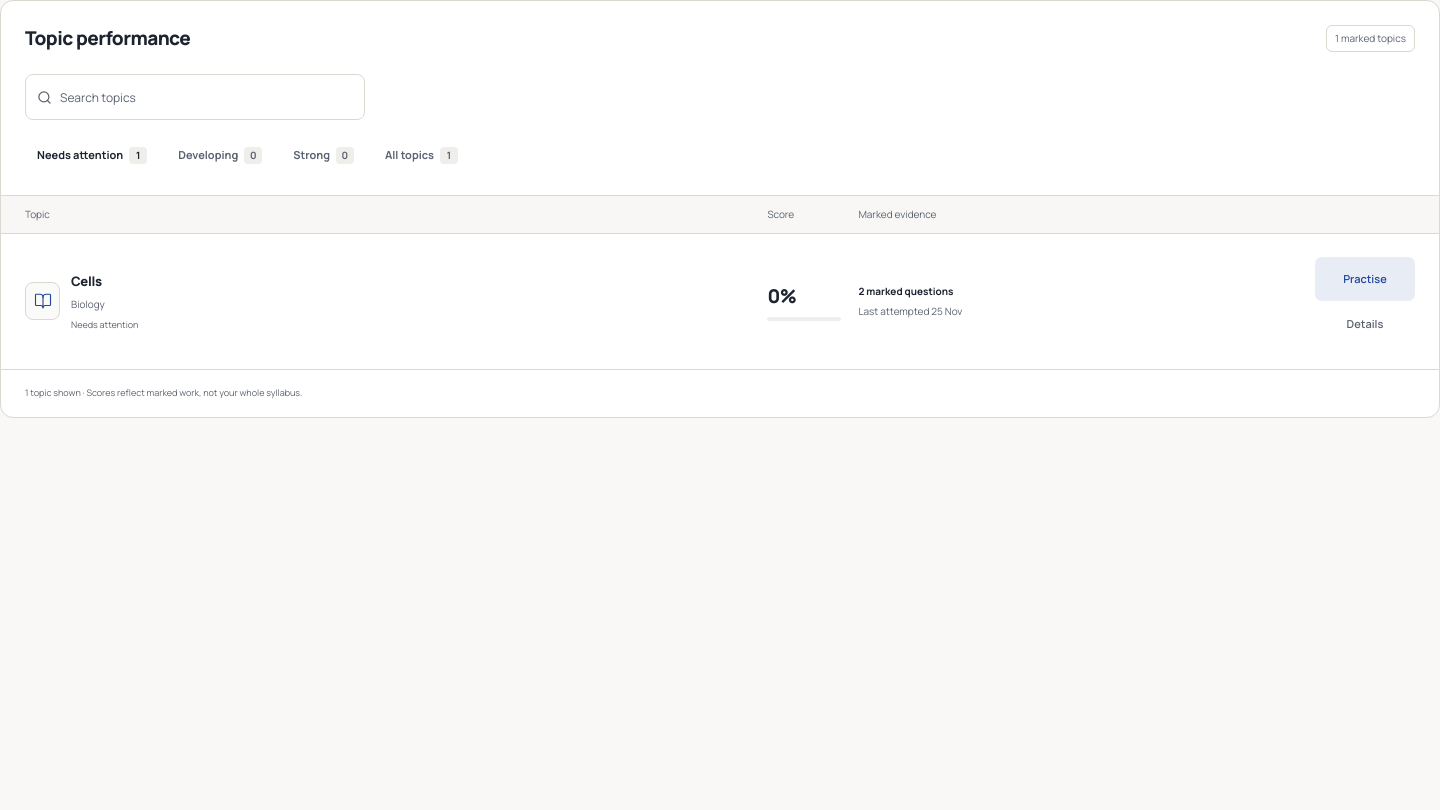
topic details distinguish missing practice from a true zero and keep targeted practice scoped
This screenshot has width=1440, height=810.
Click the button with aria-label "Details for Cells": click(1365, 324) [1315, 302, 1415, 346]
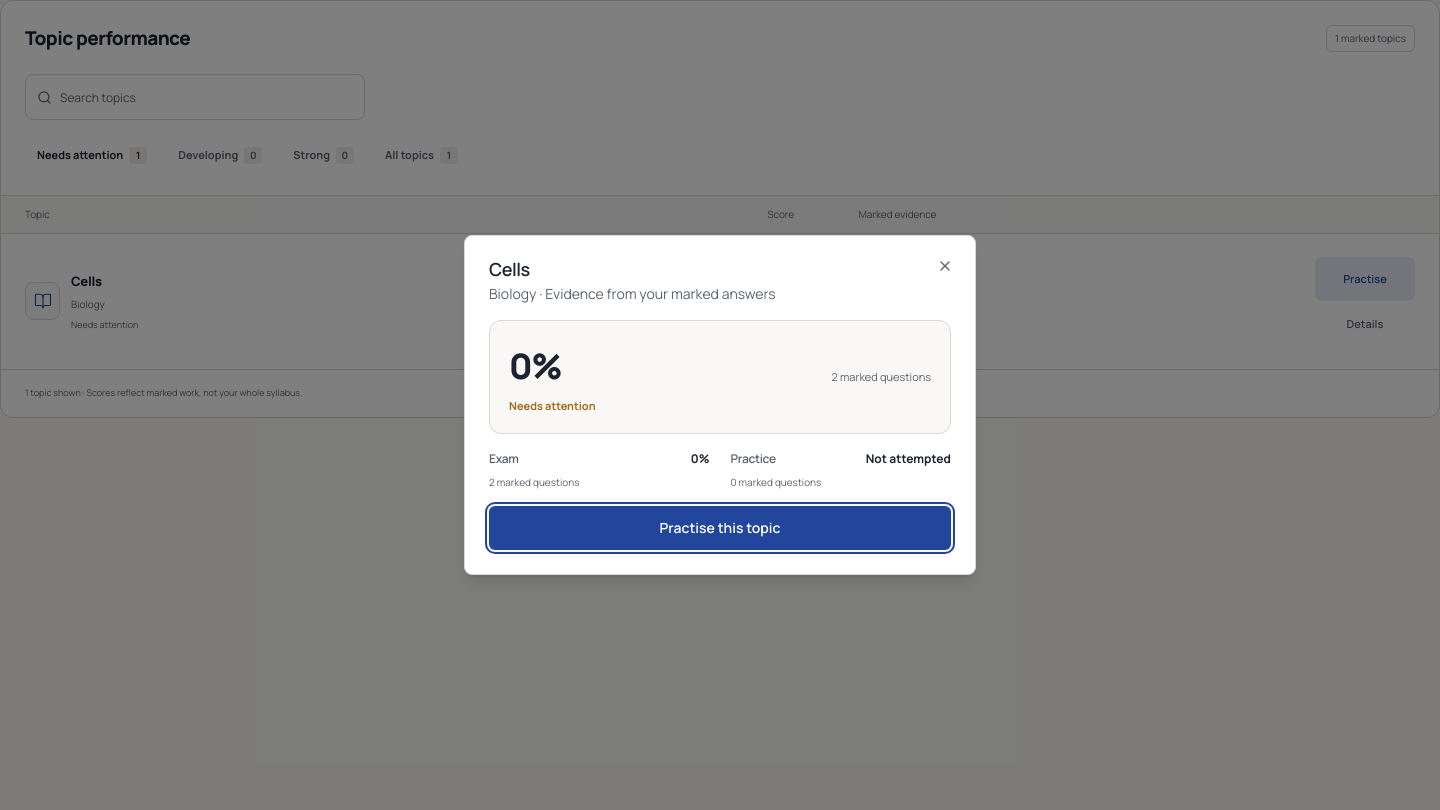
Check: the text "Not attempted" is shown, box [866, 450, 951, 468]
Check: the 1st text "0%" is shown, box [509, 342, 561, 390]
Click the button "Practise this topic": click(720, 528) [489, 506, 951, 550]
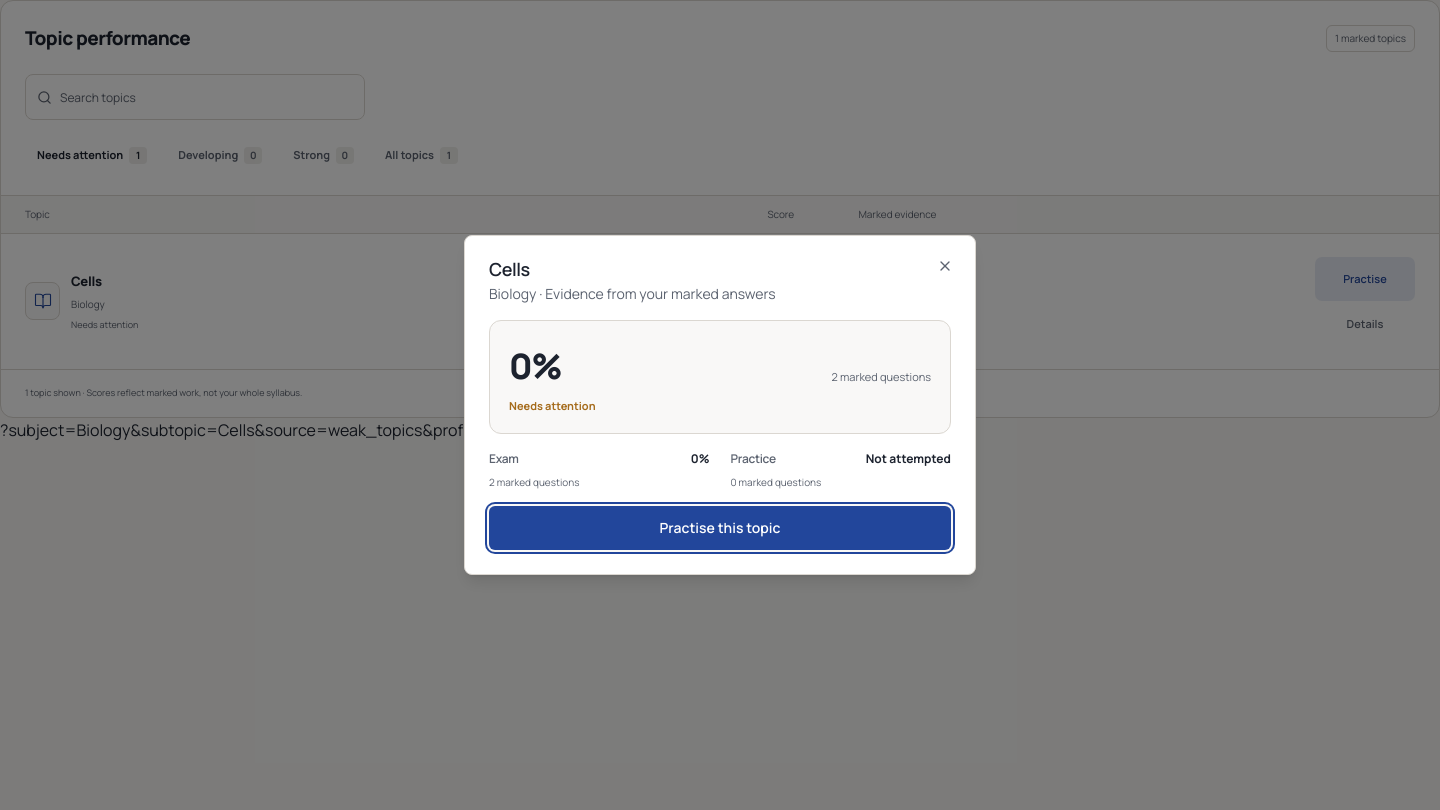
Check: the text named "Destination" shows "profileId=full", box [0, 419, 528, 441]
